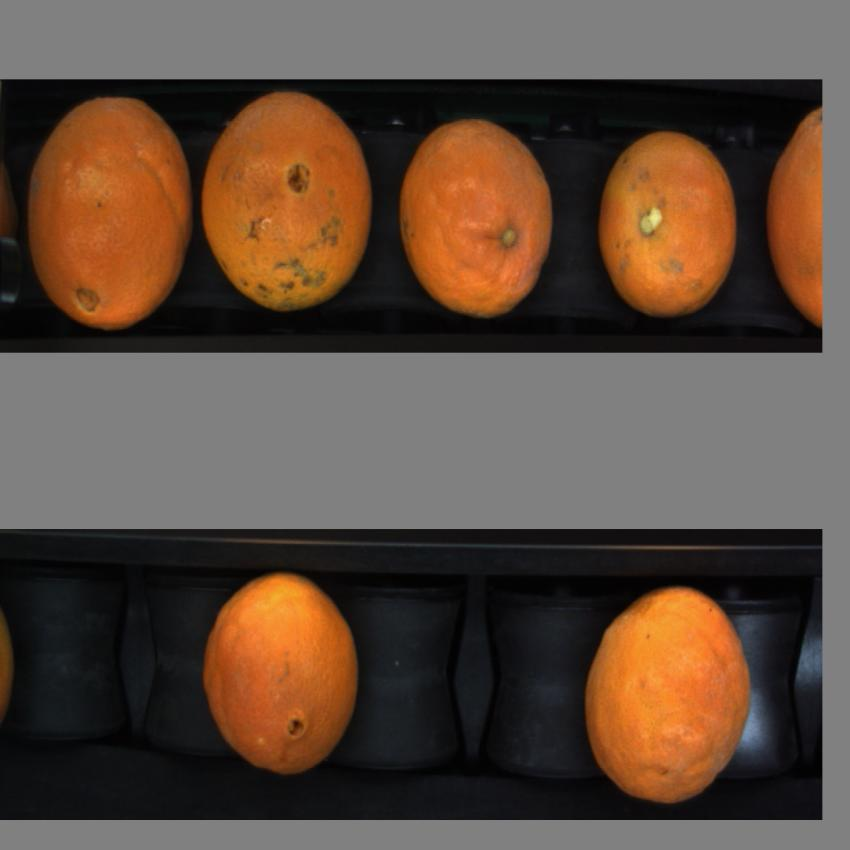Buen estado: (19, 88, 194, 340), (200, 86, 377, 325), (194, 566, 376, 781), (392, 101, 558, 325), (594, 111, 742, 327), (762, 100, 822, 330)
Mal estado: (582, 574, 758, 805)
